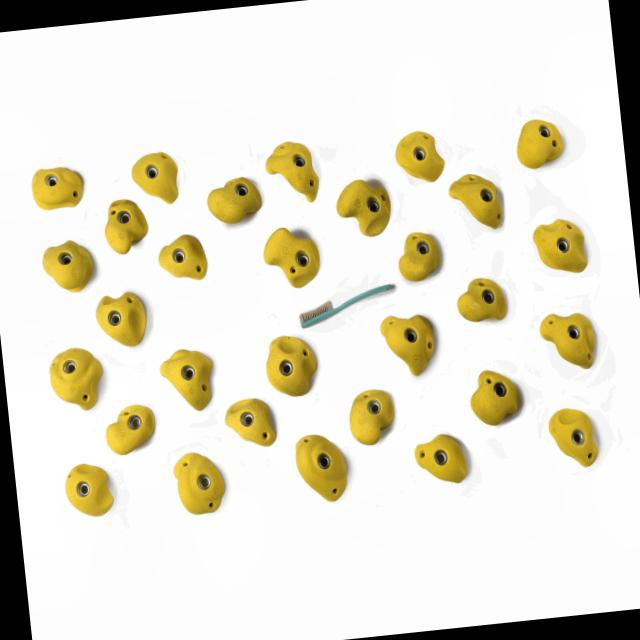Hold: (289, 425, 351, 507), (442, 165, 514, 234), (527, 209, 595, 279), (322, 170, 393, 237), (43, 346, 110, 416), (542, 403, 606, 476), (448, 264, 516, 332), (263, 220, 329, 286), (265, 332, 322, 406), (98, 404, 166, 464), (509, 114, 576, 174), (57, 456, 126, 514), (264, 137, 322, 206), (383, 300, 437, 373), (461, 366, 527, 425), (170, 453, 232, 515), (118, 154, 188, 208), (159, 345, 215, 410), (542, 305, 598, 369), (204, 170, 266, 227), (407, 437, 472, 491), (348, 386, 402, 449), (392, 122, 448, 182), (92, 290, 148, 346), (102, 196, 154, 255), (397, 230, 450, 282), (34, 160, 88, 210), (38, 240, 90, 291), (158, 232, 212, 280), (222, 400, 272, 450)
